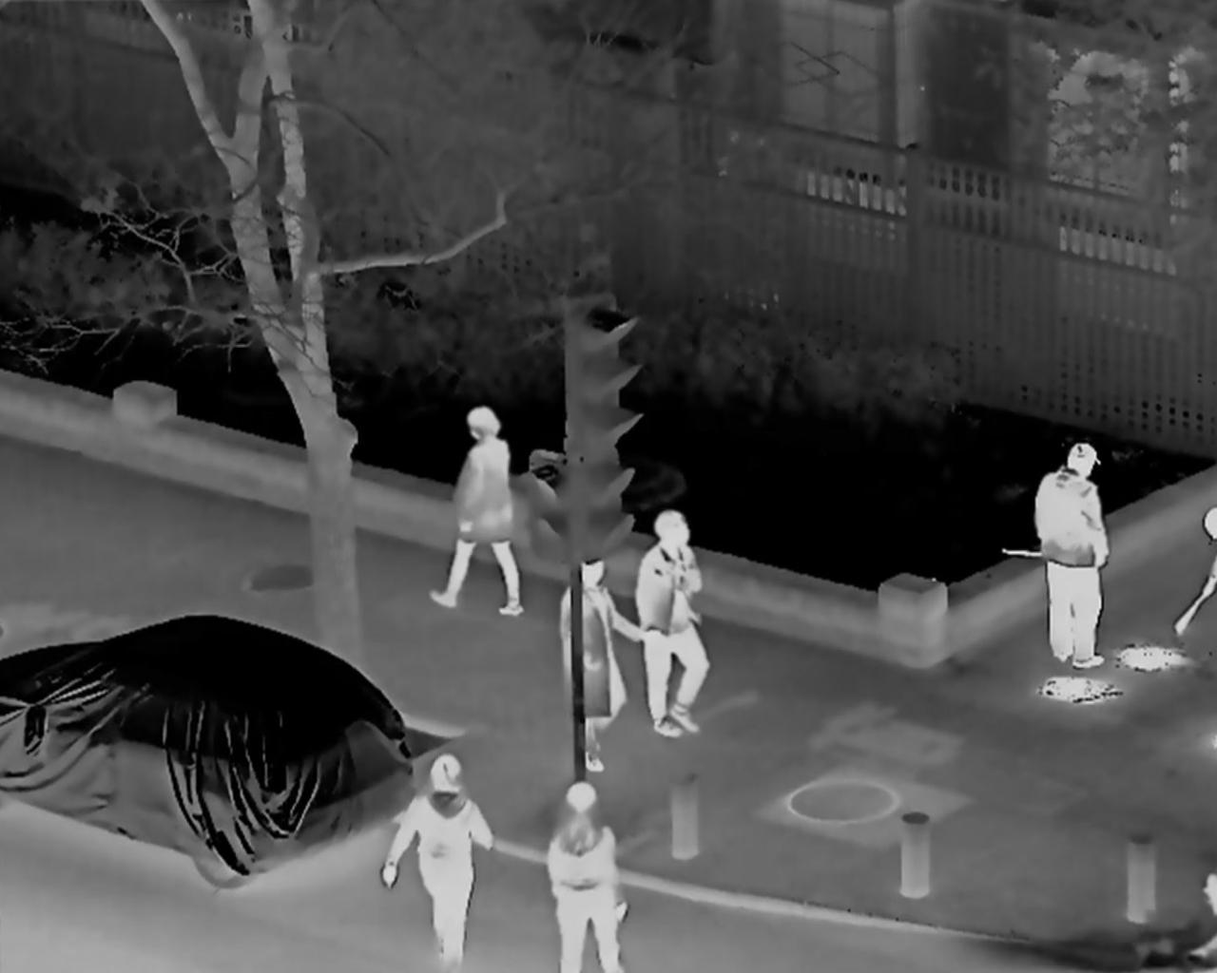person: (383, 752, 489, 966), (556, 544, 642, 776), (431, 406, 524, 615), (1031, 443, 1111, 668), (632, 510, 711, 735), (545, 786, 627, 970)
